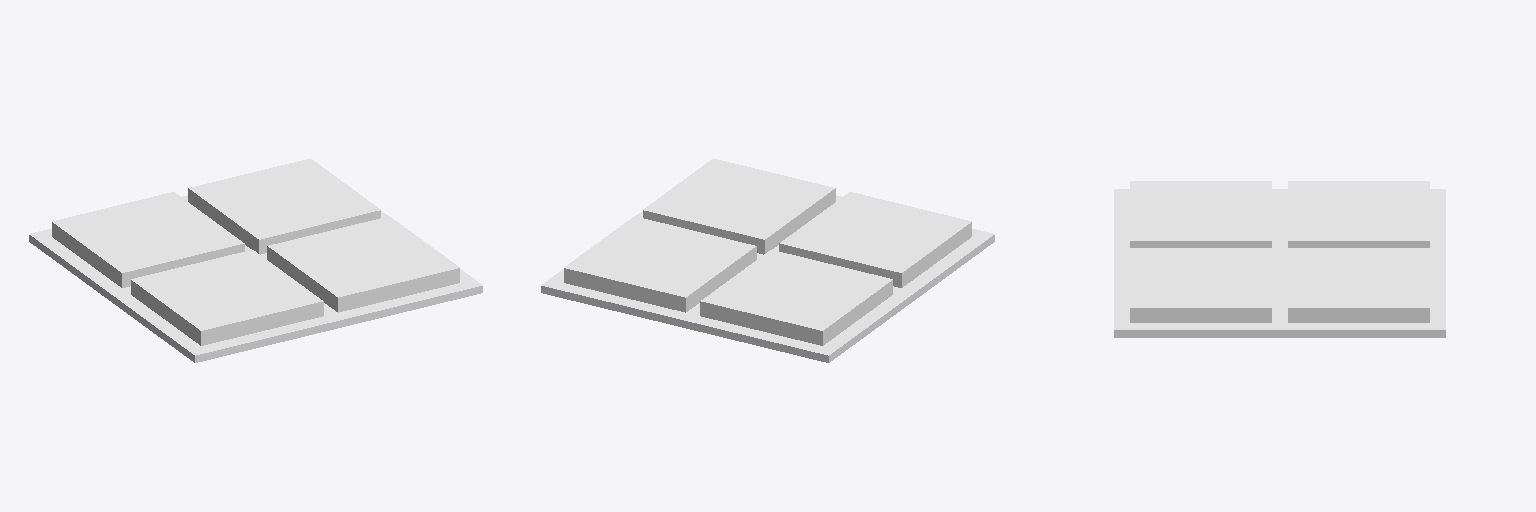
The model's file is basicEdgeTile.obj.
3 renders of one model, left to right at view 1: azimuth 30°, elevation 25°; view 2: azimuth 150°, elevation 25°; view 3: azimuth 270°, elevation 25°, orthographic.
Visible parts, largest first — view 1: object 1; view 2: object 1; view 3: object 1.
Part boxes in pixels (x1,y1,x2,y2): object 1: (29,158,482,362); object 1: (541,158,994,362); object 1: (1114,181,1445,337).
Size of the model in its own units: 4 by 0.3 by 4.